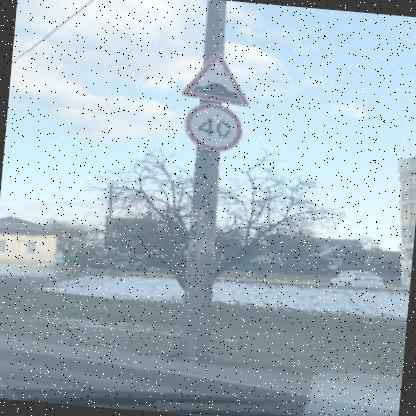speedlimit: (180, 100, 243, 152)
